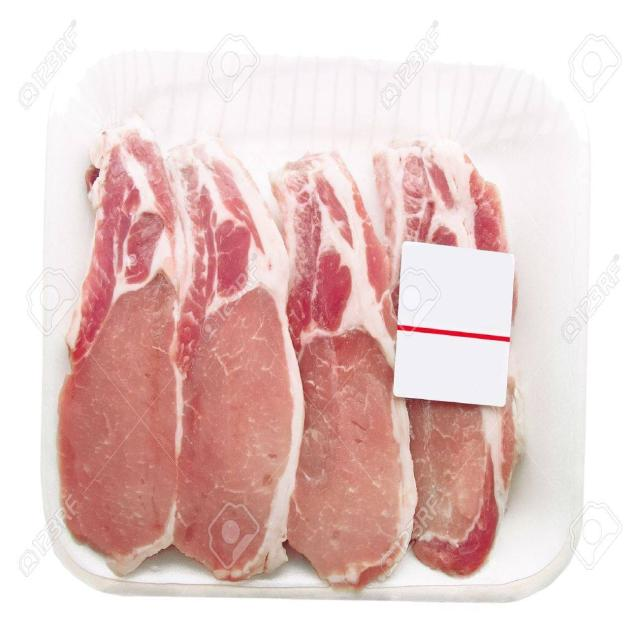pork: (45, 51, 565, 590)
